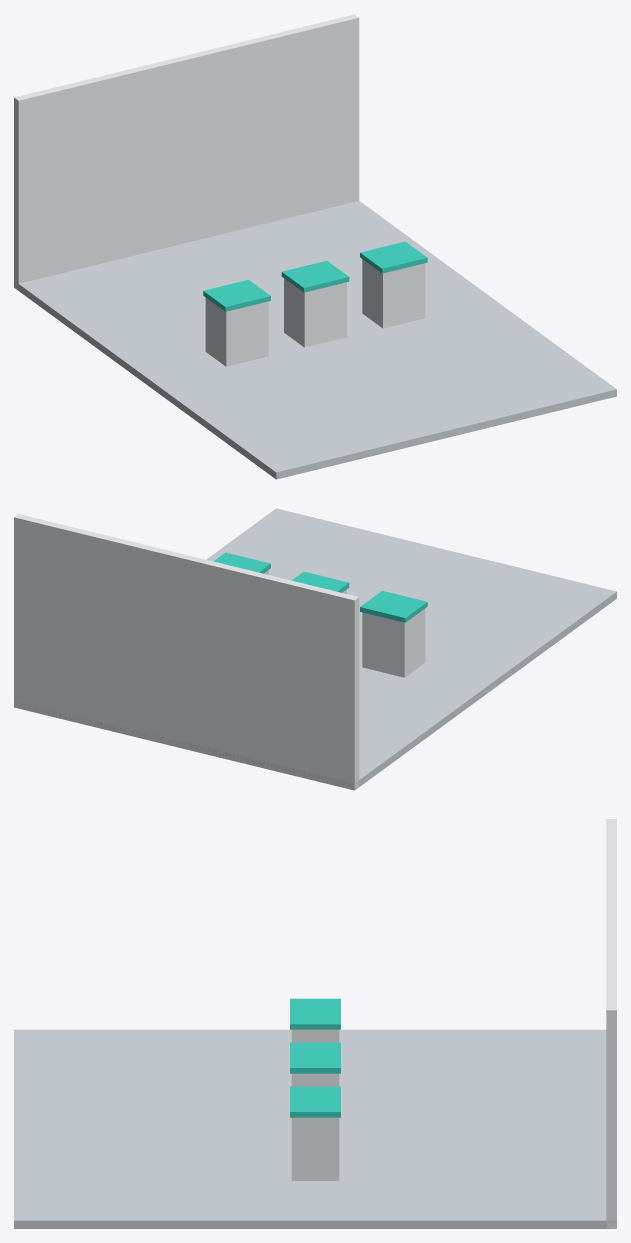
3 views of the same model, one above another, from view 1: azimuth 30°, elevation 25°; view 2: azimuth 150°, elevation 25°; view 3: azimuth 270°, elevation 25° (orthographic). The views are drawn at different scales.
Parts seen in each view (by area): view 1: Exhibition Booth Concept; view 2: Exhibition Booth Concept; view 3: Exhibition Booth Concept.
Part boxes in pixels (x1,y1,x2,y2): Exhibition Booth Concept: (14,14,616,479); Exhibition Booth Concept: (14,508,616,790); Exhibition Booth Concept: (14,819,616,1228).
Bounding box in the file's own units: 6 × 3.2 × 8.
